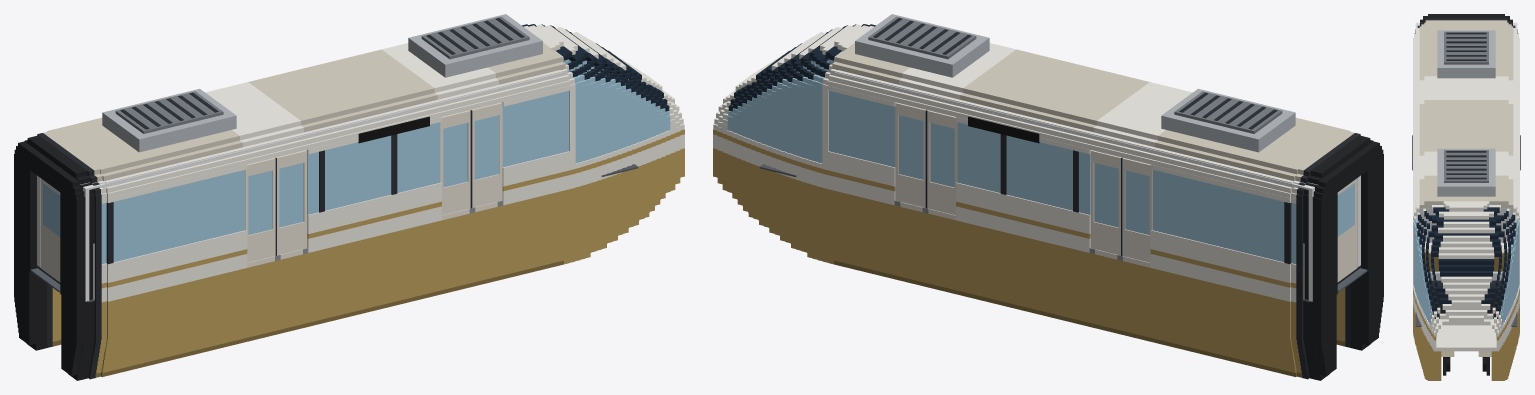
File: palm_jumeirah_front.obj
The picture shows the model from 3 angles, left to right: view 1: azimuth 30°, elevation 25°; view 2: azimuth 150°, elevation 25°; view 3: azimuth 270°, elevation 25°; orthographic projection. The views are drawn at different scales.
Parts seen in each view (by area): view 1: SHELL, SHELL_roof, SHELL_diaphragm, EXTERNAL_DOOR_9_CG_DR2_TOGGLE_TL_-0.64_X, EXTERNAL_DOOR_3_CG_DR1_TOGGLE_TL_-0.64_X, EXTERNAL_DOOR_10_CG_DR2_TOGGLE_TL_0.64_X, EXTERNAL_DOOR_4_CG_DR1_TOGGLE_TL_0.64_X, CONNECTING_DOOR_1_CG_CR_TOGGLE_TL_0.98_Z, SHELL_ceiling, SHELL_end, SHELL_sign; view 2: SHELL, SHELL_roof, SHELL_diaphragm, EXTERNAL_DOOR_12_CG_DL2_TOGGLE_TL_-0.64_X, EXTERNAL_DOOR_6_CG_DL1_TOGGLE_TL_-0.64_X, EXTERNAL_DOOR_13_CG_DL2_TOGGLE_TL_0.64_X, EXTERNAL_DOOR_7_CG_DL1_TOGGLE_TL_0.64_X, CONNECTING_DOOR_1_CG_CR_TOGGLE_TL_0.98_Z, SHELL_ceiling, SHELL_end, SHELL_sign; view 3: SHELL, SHELL_roof, SHELL_ceiling, SHELL_front, SHELL_bench, BOGEY_FRONT, HEADLIGHT_1, SHELL_floor.
Part boxes in pixels (left/top/right/bottom): SHELL: left=25, top=24, right=684, bottom=380; SHELL_roof: left=102, top=14, right=542, bottom=152; SHELL_diaphragm: left=14, top=141, right=83, bottom=375; EXTERNAL_DOOR_9_CG_DR2_TOGGLE_TL_-0.64_X: left=440, top=110, right=472, bottom=215; EXTERNAL_DOOR_3_CG_DR1_TOGGLE_TL_-0.64_X: left=245, top=157, right=276, bottom=262; EXTERNAL_DOOR_10_CG_DR2_TOGGLE_TL_0.64_X: left=471, top=102, right=502, bottom=207; EXTERNAL_DOOR_4_CG_DR1_TOGGLE_TL_0.64_X: left=276, top=150, right=307, bottom=255; CONNECTING_DOOR_1_CG_CR_TOGGLE_TL_0.98_Z: left=40, top=178, right=60, bottom=282; SHELL_ceiling: left=83, top=70, right=562, bottom=189; SHELL_end: left=37, top=175, right=89, bottom=301; SHELL_sign: left=358, top=116, right=429, bottom=143; SHELL: left=713, top=24, right=1372, bottom=380; SHELL_roof: left=855, top=14, right=1295, bottom=152; SHELL_diaphragm: left=1314, top=141, right=1383, bottom=375; EXTERNAL_DOOR_12_CG_DL2_TOGGLE_TL_-0.64_X: left=925, top=110, right=957, bottom=215; EXTERNAL_DOOR_6_CG_DL1_TOGGLE_TL_-0.64_X: left=1121, top=157, right=1152, bottom=262; EXTERNAL_DOOR_13_CG_DL2_TOGGLE_TL_0.64_X: left=895, top=102, right=926, bottom=207; EXTERNAL_DOOR_7_CG_DL1_TOGGLE_TL_0.64_X: left=1090, top=150, right=1121, bottom=255; CONNECTING_DOOR_1_CG_CR_TOGGLE_TL_0.98_Z: left=1337, top=178, right=1357, bottom=282; SHELL_ceiling: left=835, top=70, right=1314, bottom=189; SHELL_end: left=1308, top=175, right=1360, bottom=301; SHELL_sign: left=968, top=116, right=1039, bottom=143; SHELL: left=1413, top=14, right=1519, bottom=380; SHELL_roof: left=1437, top=30, right=1495, bottom=196; SHELL_ceiling: left=1415, top=23, right=1517, bottom=208; SHELL_front: left=1425, top=252, right=1507, bottom=318; SHELL_bench: left=1416, top=209, right=1516, bottom=242; BOGEY_FRONT: left=1443, top=357, right=1489, bottom=375; HEADLIGHT_1: left=1441, top=351, right=1491, bottom=356; SHELL_floor: left=1415, top=312, right=1517, bottom=326.
Bounding box in the file's own units: 13.96 × 4.8 × 2.66.
1 material, 1 textured.
